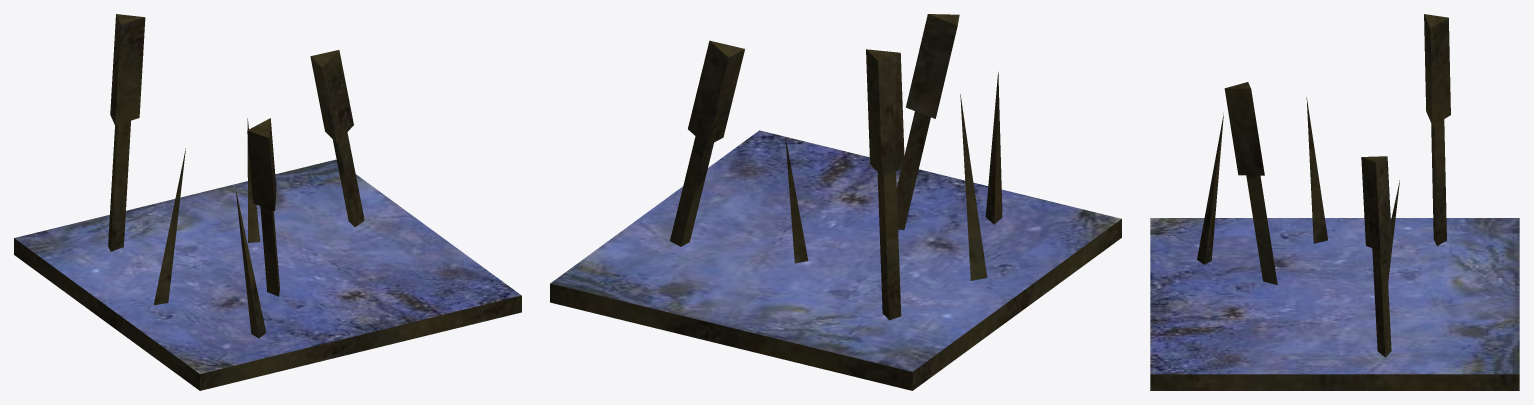
The model's file is SwampWater.glb.
3 views of the same model, side by side, from view 1: azimuth 30°, elevation 25°; view 2: azimuth 150°, elevation 25°; view 3: azimuth 270°, elevation 25° (orthographic). The views are drawn at different scales.
Parts seen in each view (by area): view 1: Circle; view 2: Circle; view 3: Circle.
Part boxes in pixels (x1,y1,x2,y2): Circle: [14, 14, 521, 390]; Circle: [550, 14, 1121, 390]; Circle: [1150, 14, 1519, 390].
Size of the model in its own units: 2 by 1.49 by 2.
Materials: 1 (1 with a texture image).
